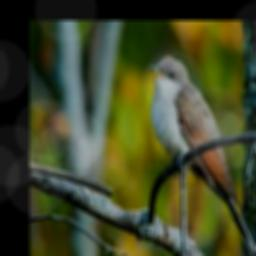Cuckoo: (148, 55, 256, 256)
